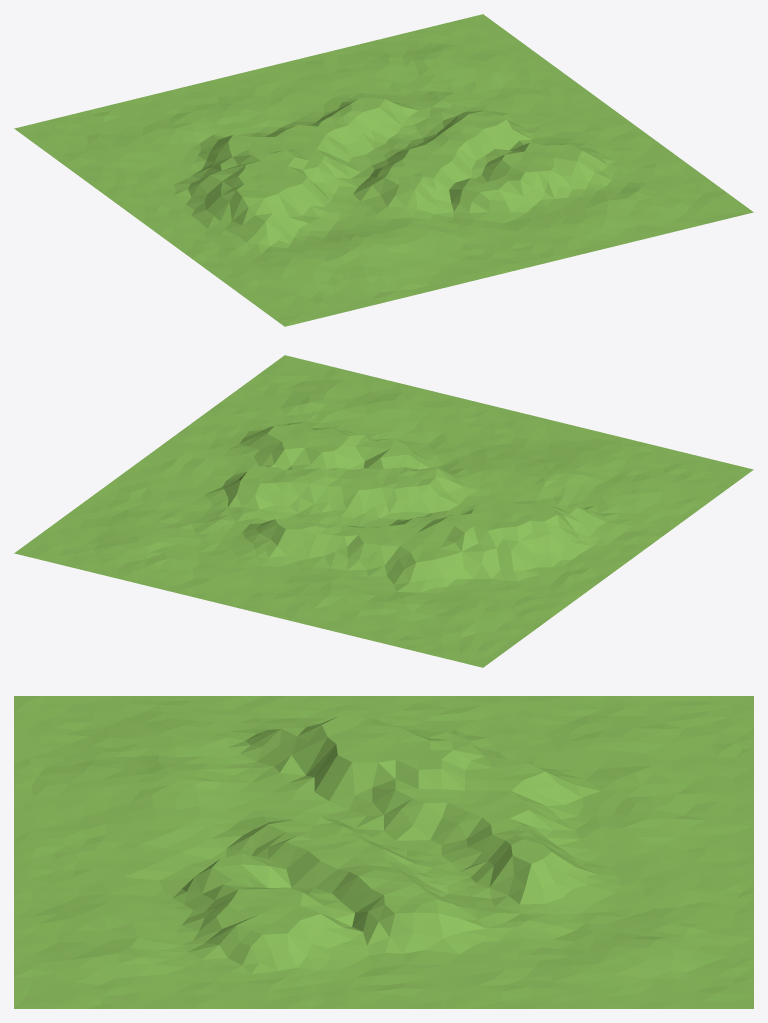
Rendered from MT_Terrain_L_c_06_LOD.fbx.
3 views of the same model, one above another, from view 1: azimuth 30°, elevation 25°; view 2: azimuth 150°, elevation 25°; view 3: azimuth 270°, elevation 25° (orthographic). The views are drawn at different scales.
Visible parts, largest first — view 1: MT_Terrain_L_c_06_LOD0; view 2: MT_Terrain_L_c_06_LOD0; view 3: MT_Terrain_L_c_06_LOD0.
Boxes of the visible parts, bbox=[...] form: MT_Terrain_L_c_06_LOD0: bbox=[14, 14, 753, 326]; MT_Terrain_L_c_06_LOD0: bbox=[14, 355, 753, 667]; MT_Terrain_L_c_06_LOD0: bbox=[14, 696, 753, 1008].
Size of what is drawn, in the model's own units: 10000 by 530 by 10000.
